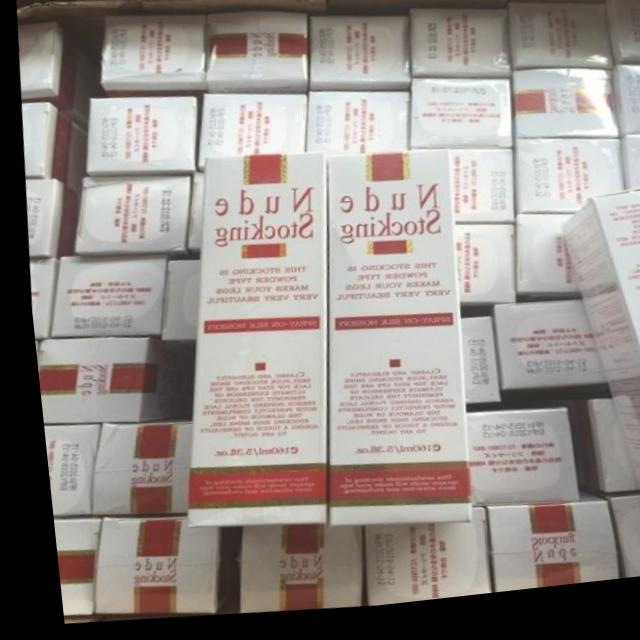box: (173, 159, 322, 531), (317, 160, 461, 532), (554, 205, 640, 556), (82, 519, 231, 615), (30, 339, 187, 426), (473, 502, 606, 602), (351, 516, 478, 613), (225, 531, 351, 618), (455, 422, 567, 518), (483, 311, 600, 401), (42, 256, 164, 340), (68, 176, 189, 256), (82, 425, 180, 519), (98, 18, 210, 100), (83, 100, 197, 179), (18, 24, 102, 129), (203, 16, 307, 99), (194, 97, 305, 174), (510, 150, 622, 225), (405, 85, 511, 161), (405, 157, 511, 233), (306, 22, 409, 99), (510, 81, 617, 151), (553, 411, 630, 505), (410, 19, 509, 91), (304, 96, 407, 163), (510, 13, 607, 83), (507, 224, 574, 313), (21, 103, 83, 196), (34, 422, 89, 519), (448, 232, 509, 315), (42, 519, 91, 617), (22, 177, 77, 260), (598, 509, 640, 592), (453, 325, 490, 413), (154, 262, 192, 344), (604, 7, 640, 78), (24, 259, 53, 339), (610, 77, 640, 149), (182, 173, 200, 252), (617, 150, 640, 204)
